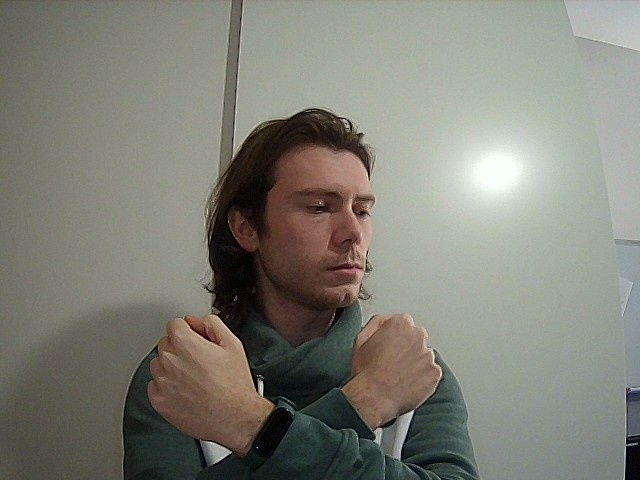del: (128, 307, 471, 480)
